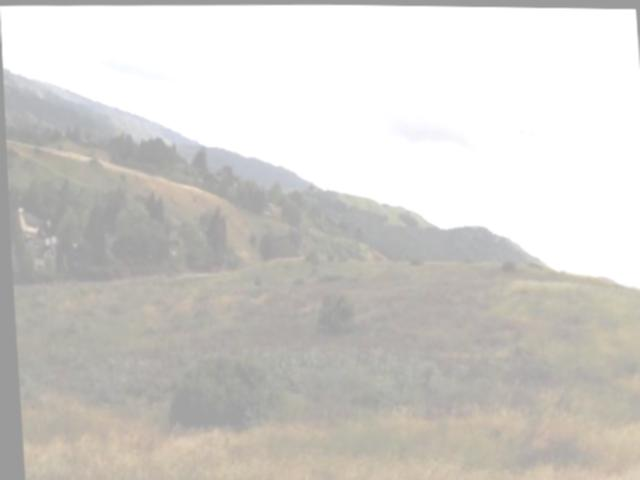iha: (512, 121, 539, 142)
